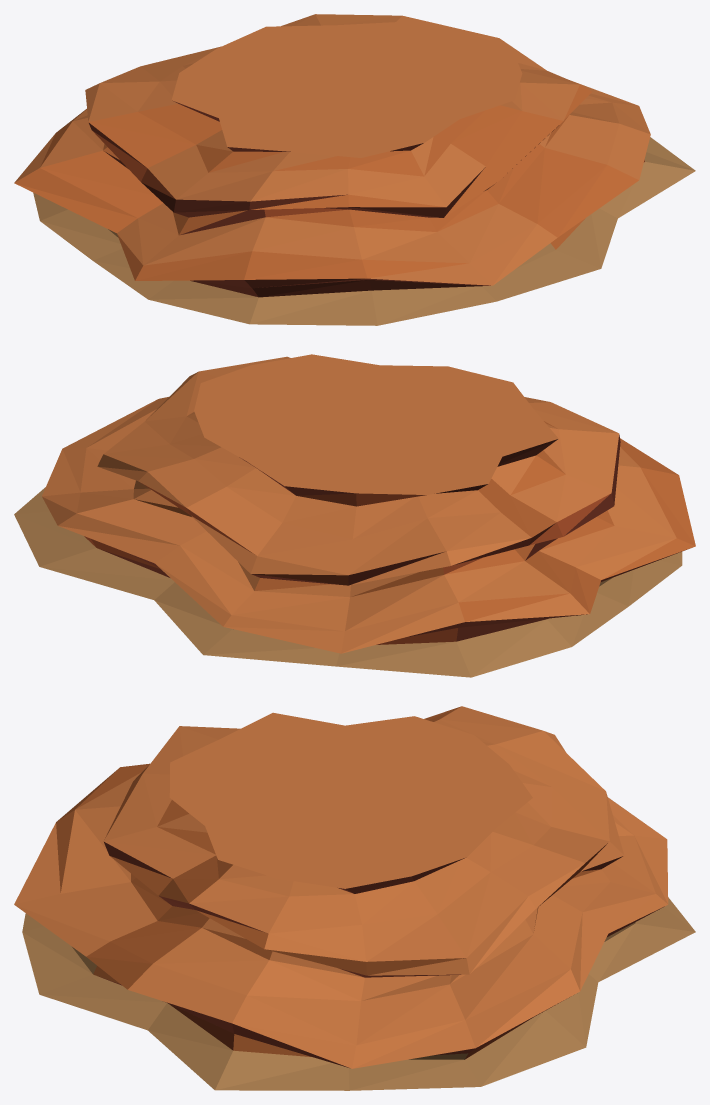
The model's file is rockE.glb.
The picture shows the model from 3 angles, top to bottom: view 1: azimuth 30°, elevation 25°; view 2: azimuth 150°, elevation 25°; view 3: azimuth 270°, elevation 25°; orthographic projection. The views are drawn at different scales.
Visible parts, largest first — view 1: RedRockKitE; view 2: RedRockKitE; view 3: RedRockKitE.
Boxes of the visible parts, bbox=[...] form: RedRockKitE: bbox=[14, 14, 695, 325]; RedRockKitE: bbox=[14, 354, 695, 677]; RedRockKitE: bbox=[14, 706, 695, 1090].
Size of the model in its own units: 5.76 by 1.1 by 5.23.
